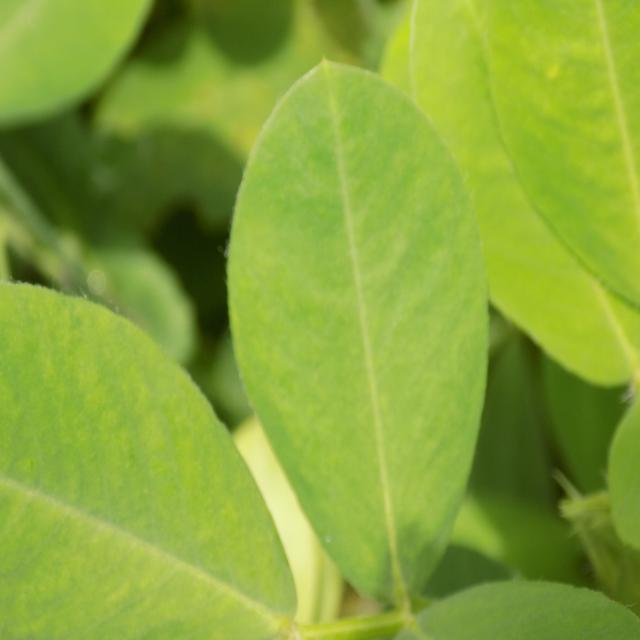Ground nut_healthy: (229, 62, 486, 596)
